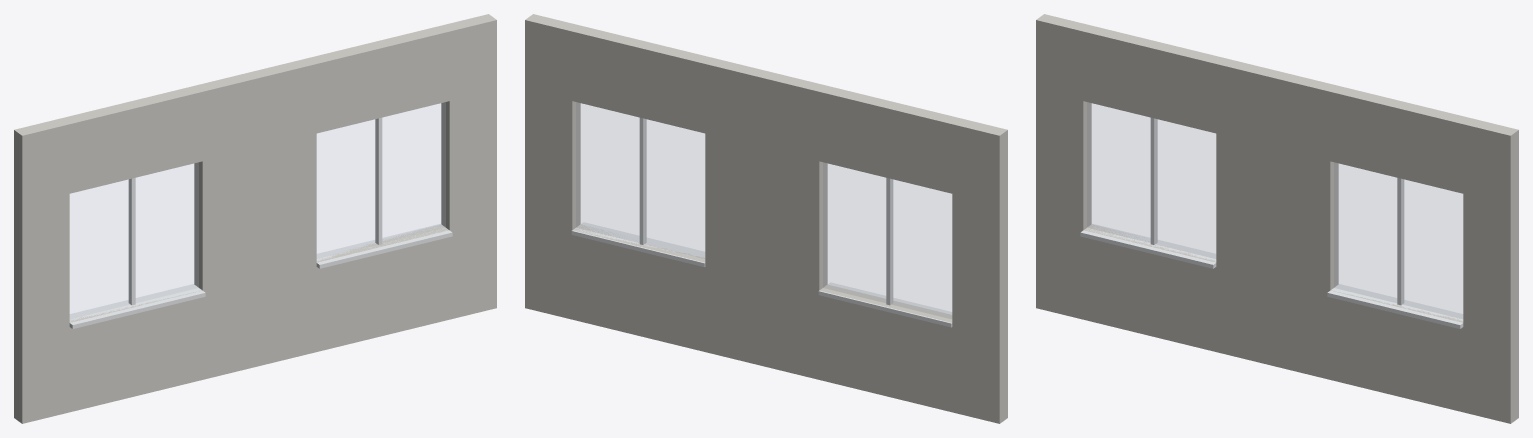
Rendered from str-002.glb.
3 views of the same model, side by side, from view 1: azimuth 30°, elevation 25°; view 2: azimuth 150°, elevation 25°; view 3: azimuth 330°, elevation 25° (orthographic).
Visible parts, largest first — view 1: mall_wall, glass_clear, white; view 2: mall_wall, glass_clear, white; view 3: mall_wall, glass_clear, white.
Boxes of the visible parts, x1,y1,x2,y2 form: mall_wall: (14,14,496,423); glass_clear: (70,102,445,318); white: (69,117,452,328); mall_wall: (525,14,1007,423); glass_clear: (576,102,951,318); white: (571,117,952,327); mall_wall: (1036,14,1518,423); glass_clear: (1087,102,1462,318); white: (1080,117,1463,328).
Size of the model in its own units: 5 by 2.9 by 0.22.
